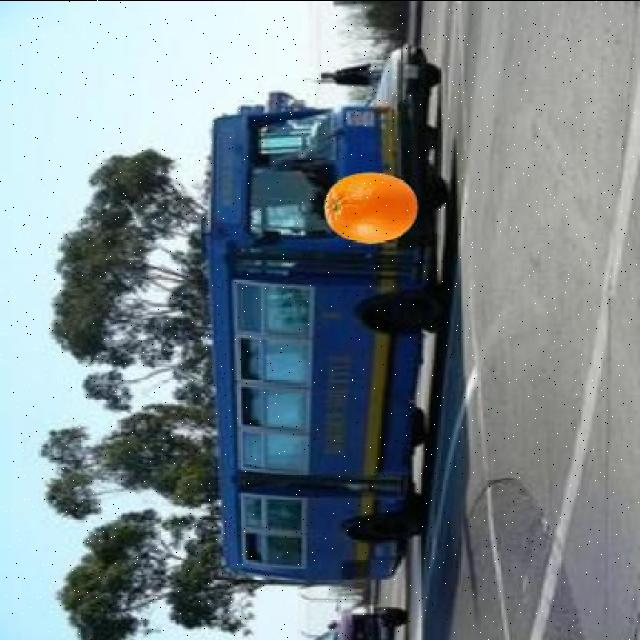Orange: (320, 170, 418, 247)
